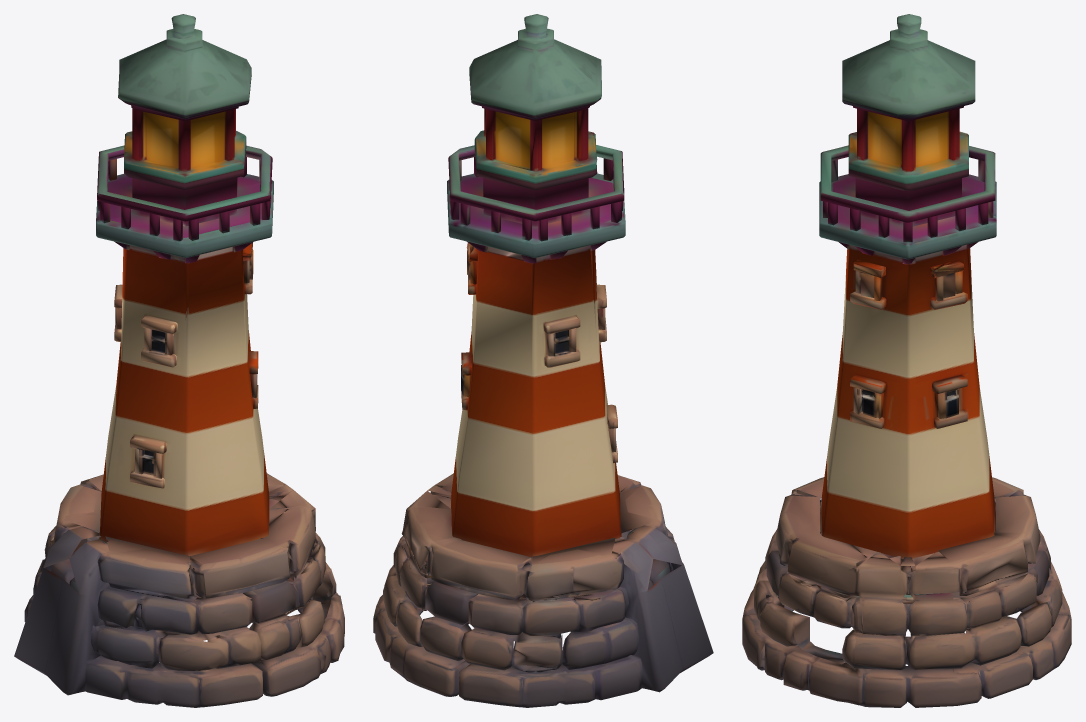
Rendered from raw.glb.
The picture shows the model from 3 angles, left to right: view 1: azimuth 30°, elevation 25°; view 2: azimuth 150°, elevation 25°; view 3: azimuth 270°, elevation 25°; orthographic projection.
Visible parts, largest first — view 1: material; view 2: material; view 3: material.
Part boxes in pixels (bbox=[...]): material: bbox=[14, 14, 344, 707]; material: bbox=[373, 14, 713, 707]; material: bbox=[742, 14, 1071, 707].
Size of the model in its own units: 0.914 by 1.9 by 0.9022.
Materials: 1 (1 with a texture image).
